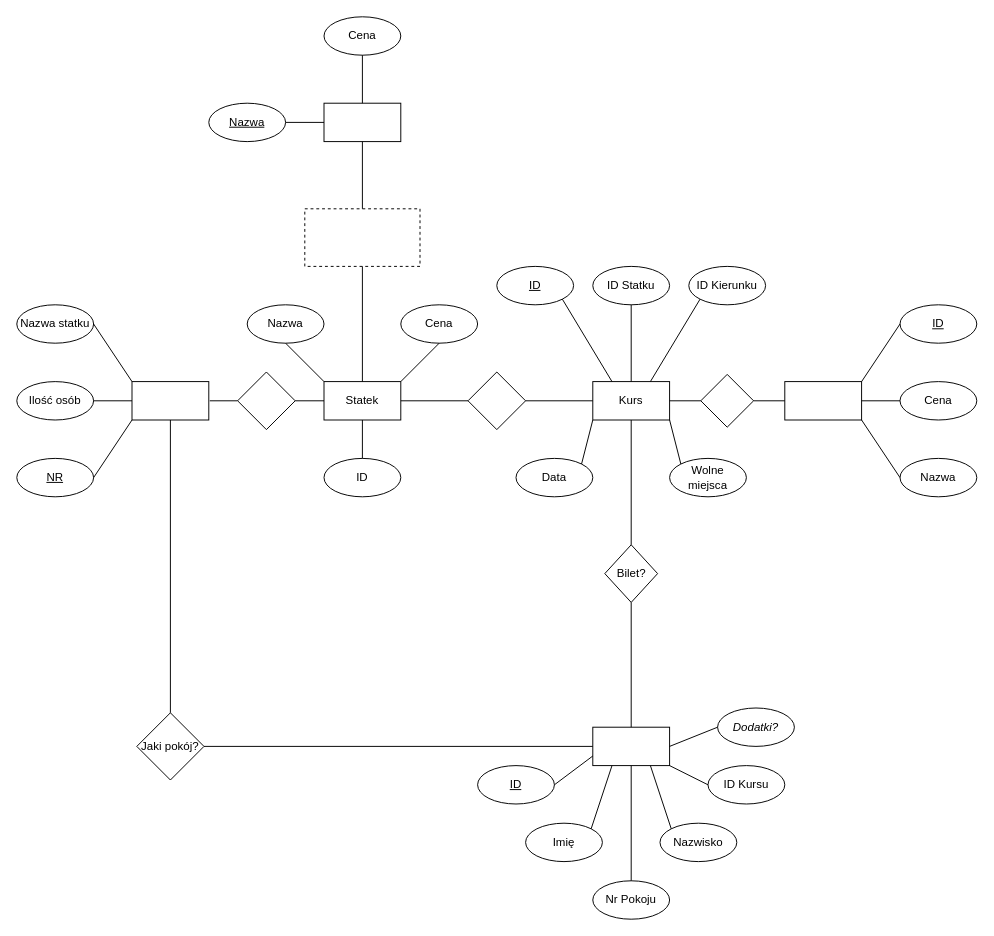
This 994x936 diagram has some shape labels left out. The box of each missing label's shape, as (x1, y1, x2, y2) in pixels:
Bilet: (592, 726, 670, 766)
Czym?: (467, 371, 526, 430)
Dodatki: (323, 102, 401, 142)
Dokąd?: (700, 373, 754, 427)
Jaki statek?: (237, 371, 295, 430)
Kierunek: (784, 381, 862, 420)
Opcje osobno dla każdego statku? (może): (304, 208, 420, 266)
Pokój: (131, 381, 209, 420)
